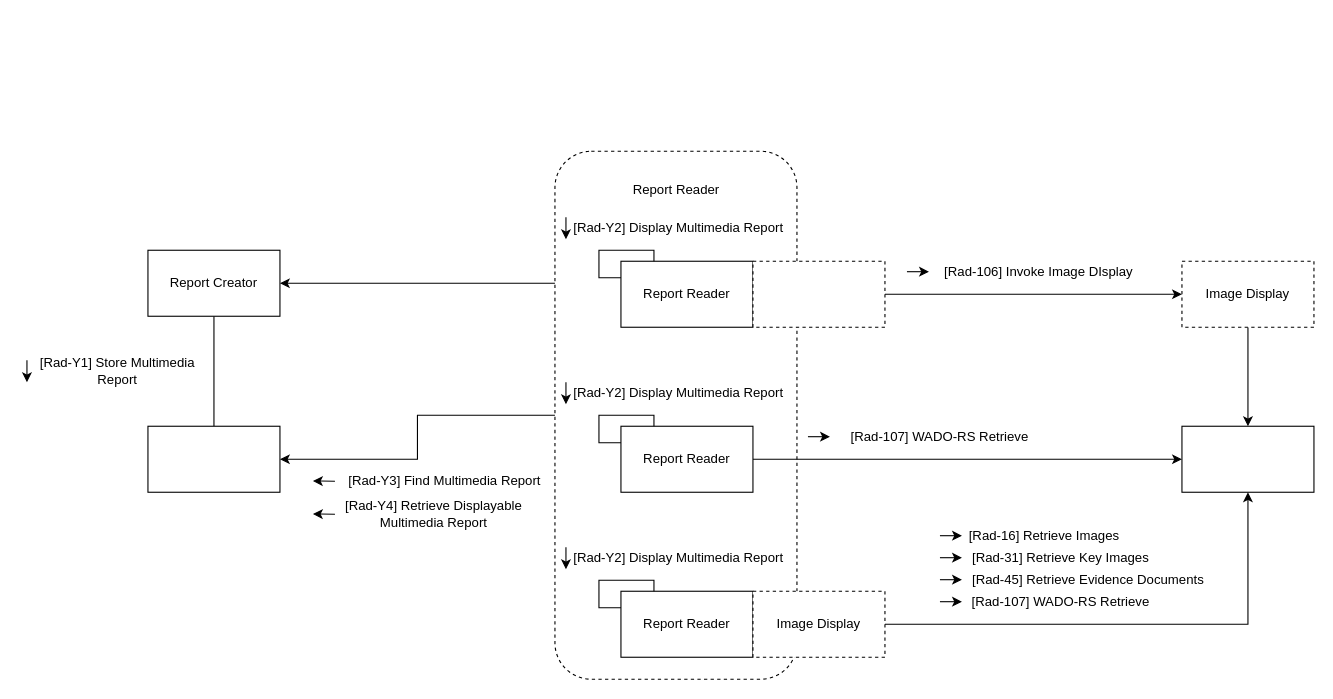
The diagram is 1333 pixels wide and 699 high, and some of its shapes have lost their labels. Here are the shapes that lost their labels. From the top down, the box of each, then its label:
(752, 260, 885, 327): Image Display Invoker
(147, 425, 280, 492): Report Repository
(1181, 425, 1314, 492): Image Manager / Image Archive
